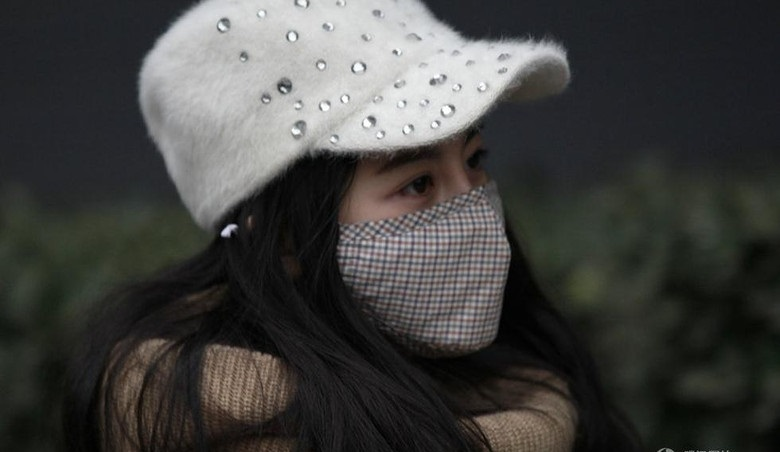face_mask: (337, 82, 535, 350)
